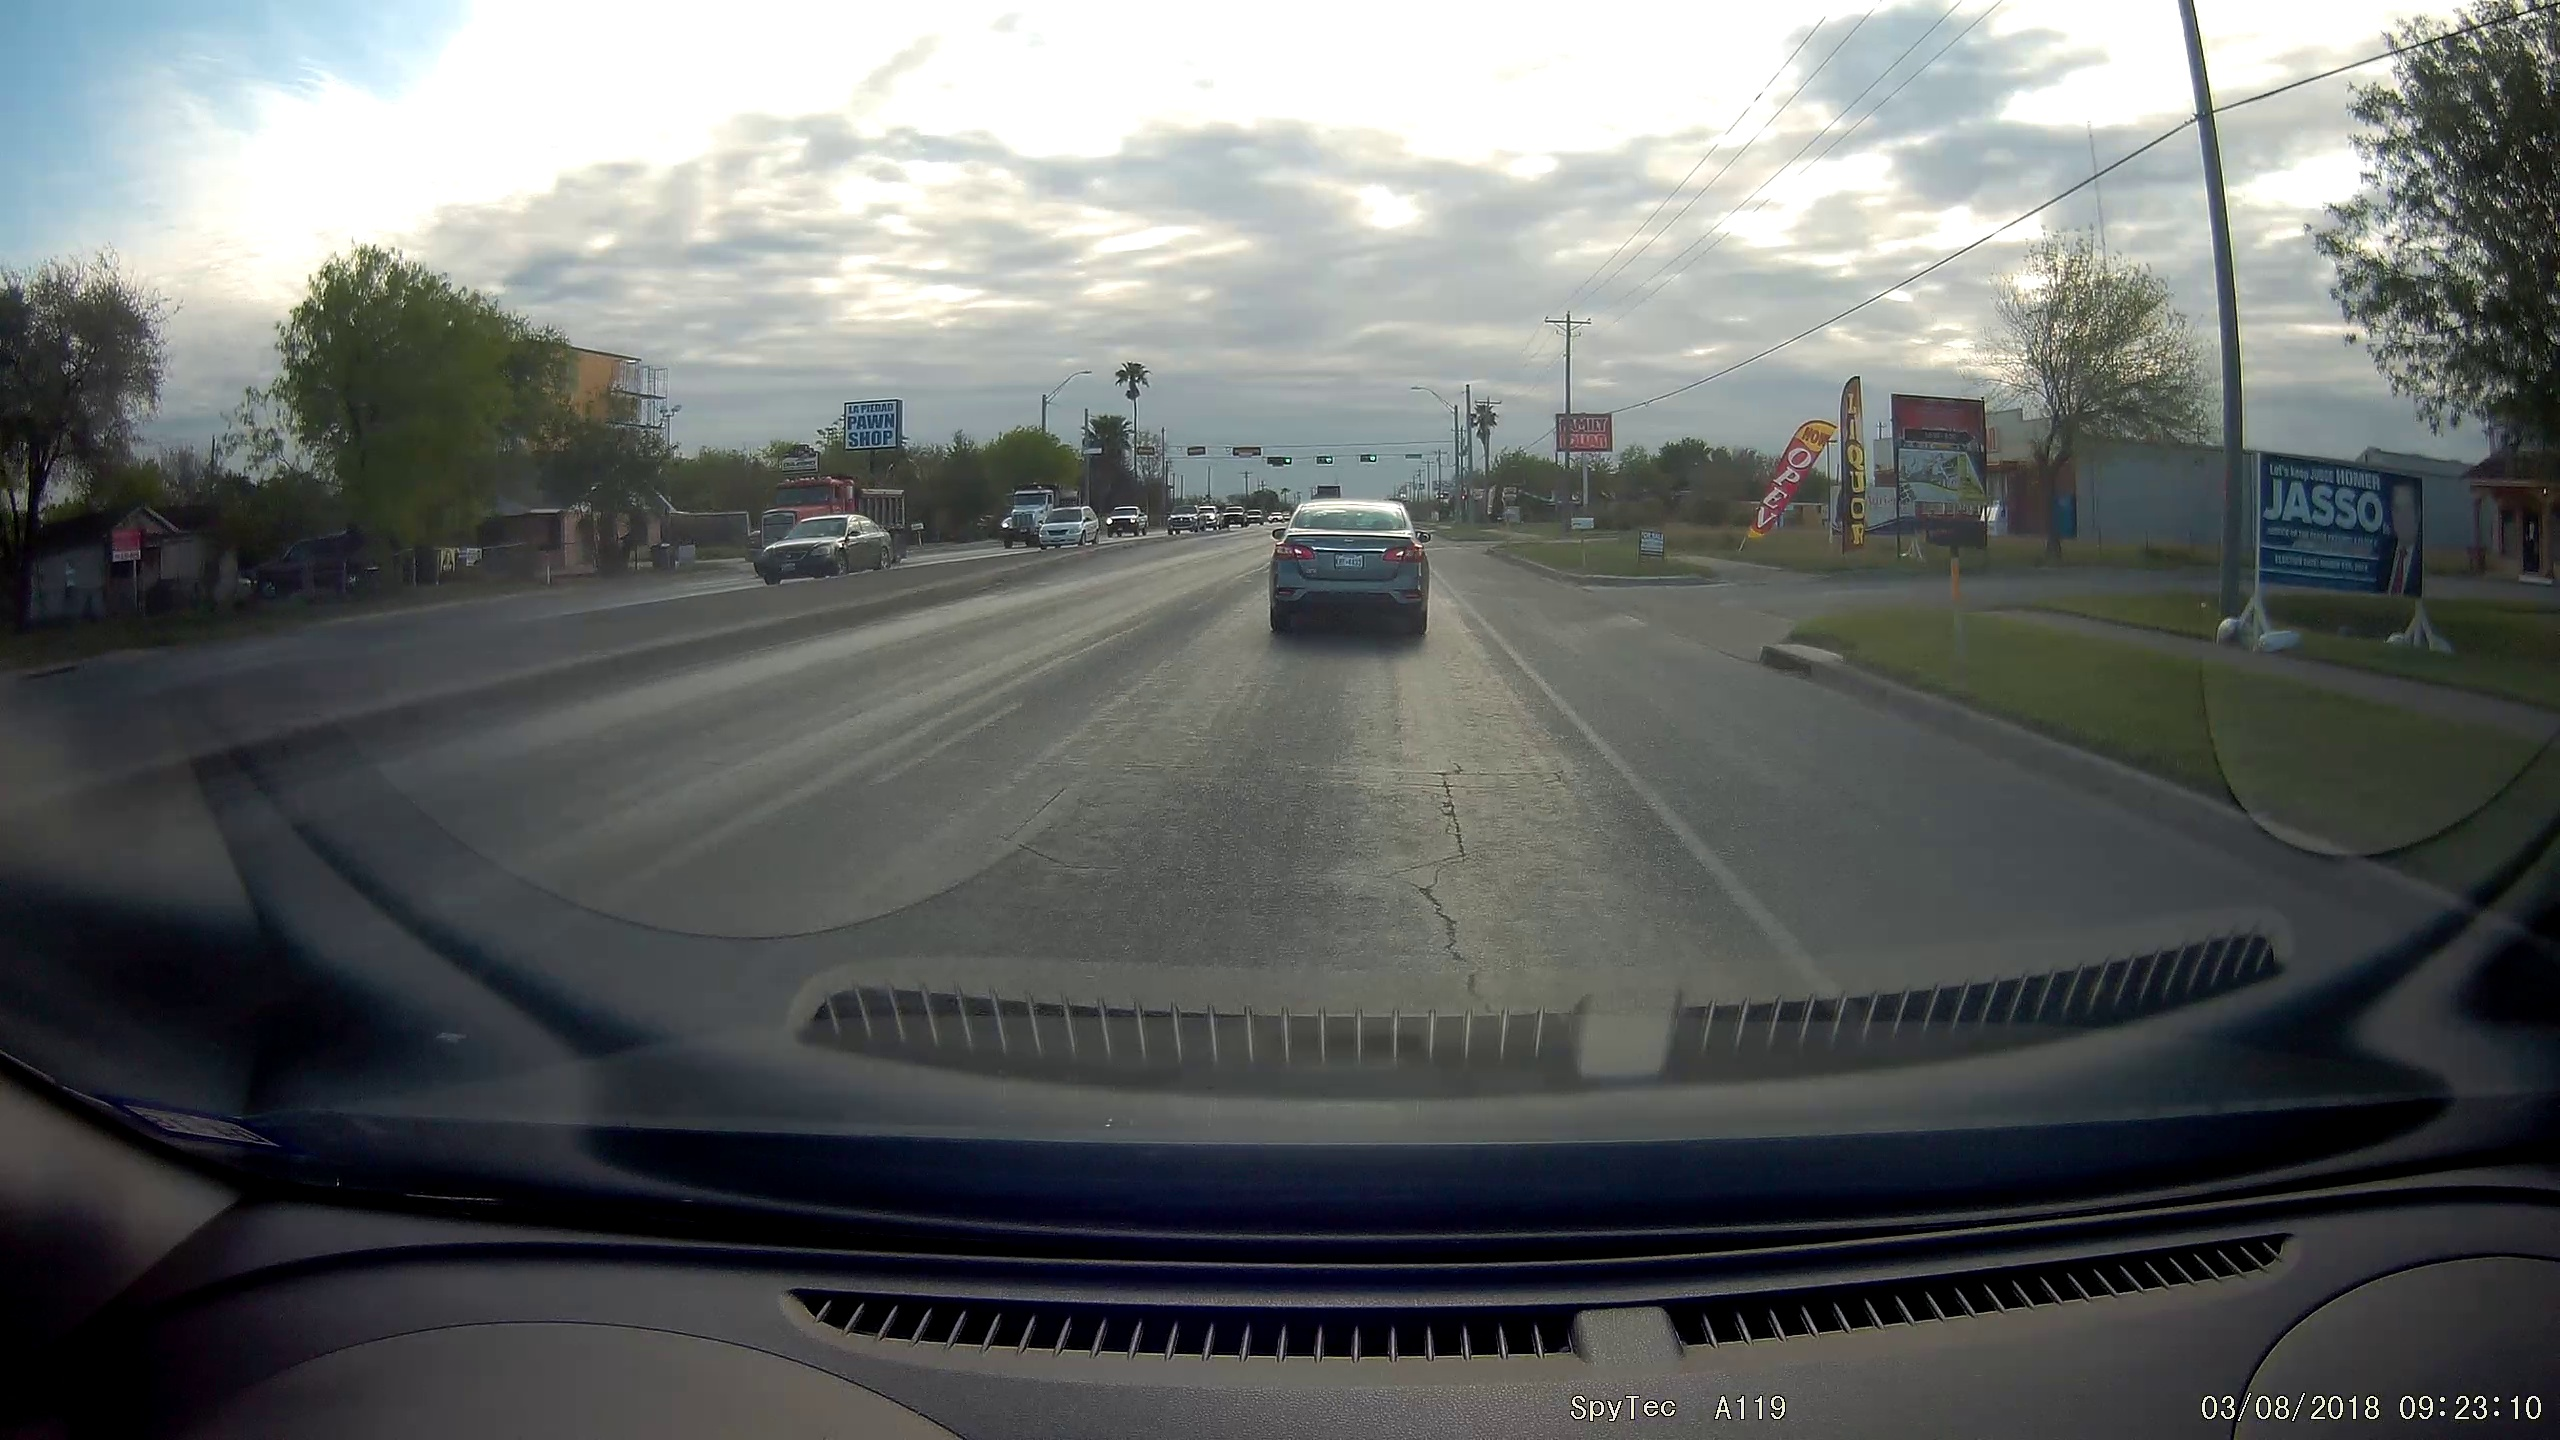blurredLine: (651, 647, 1046, 927)
crack: (1357, 716, 1533, 1007)
